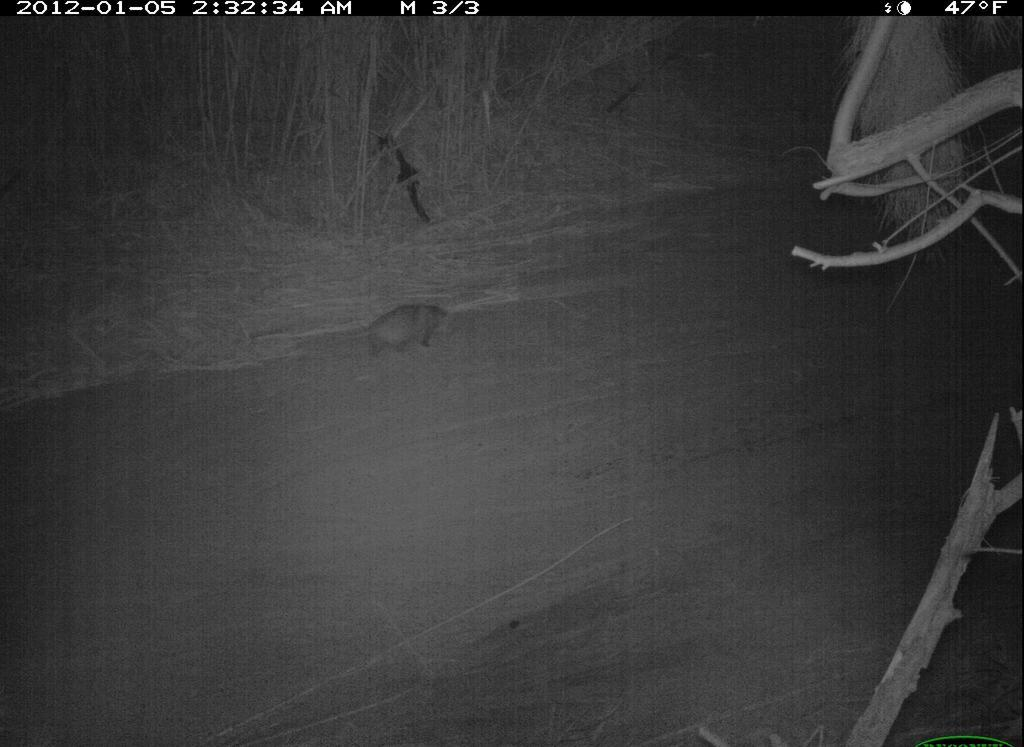opossum: (315, 291, 461, 364)
